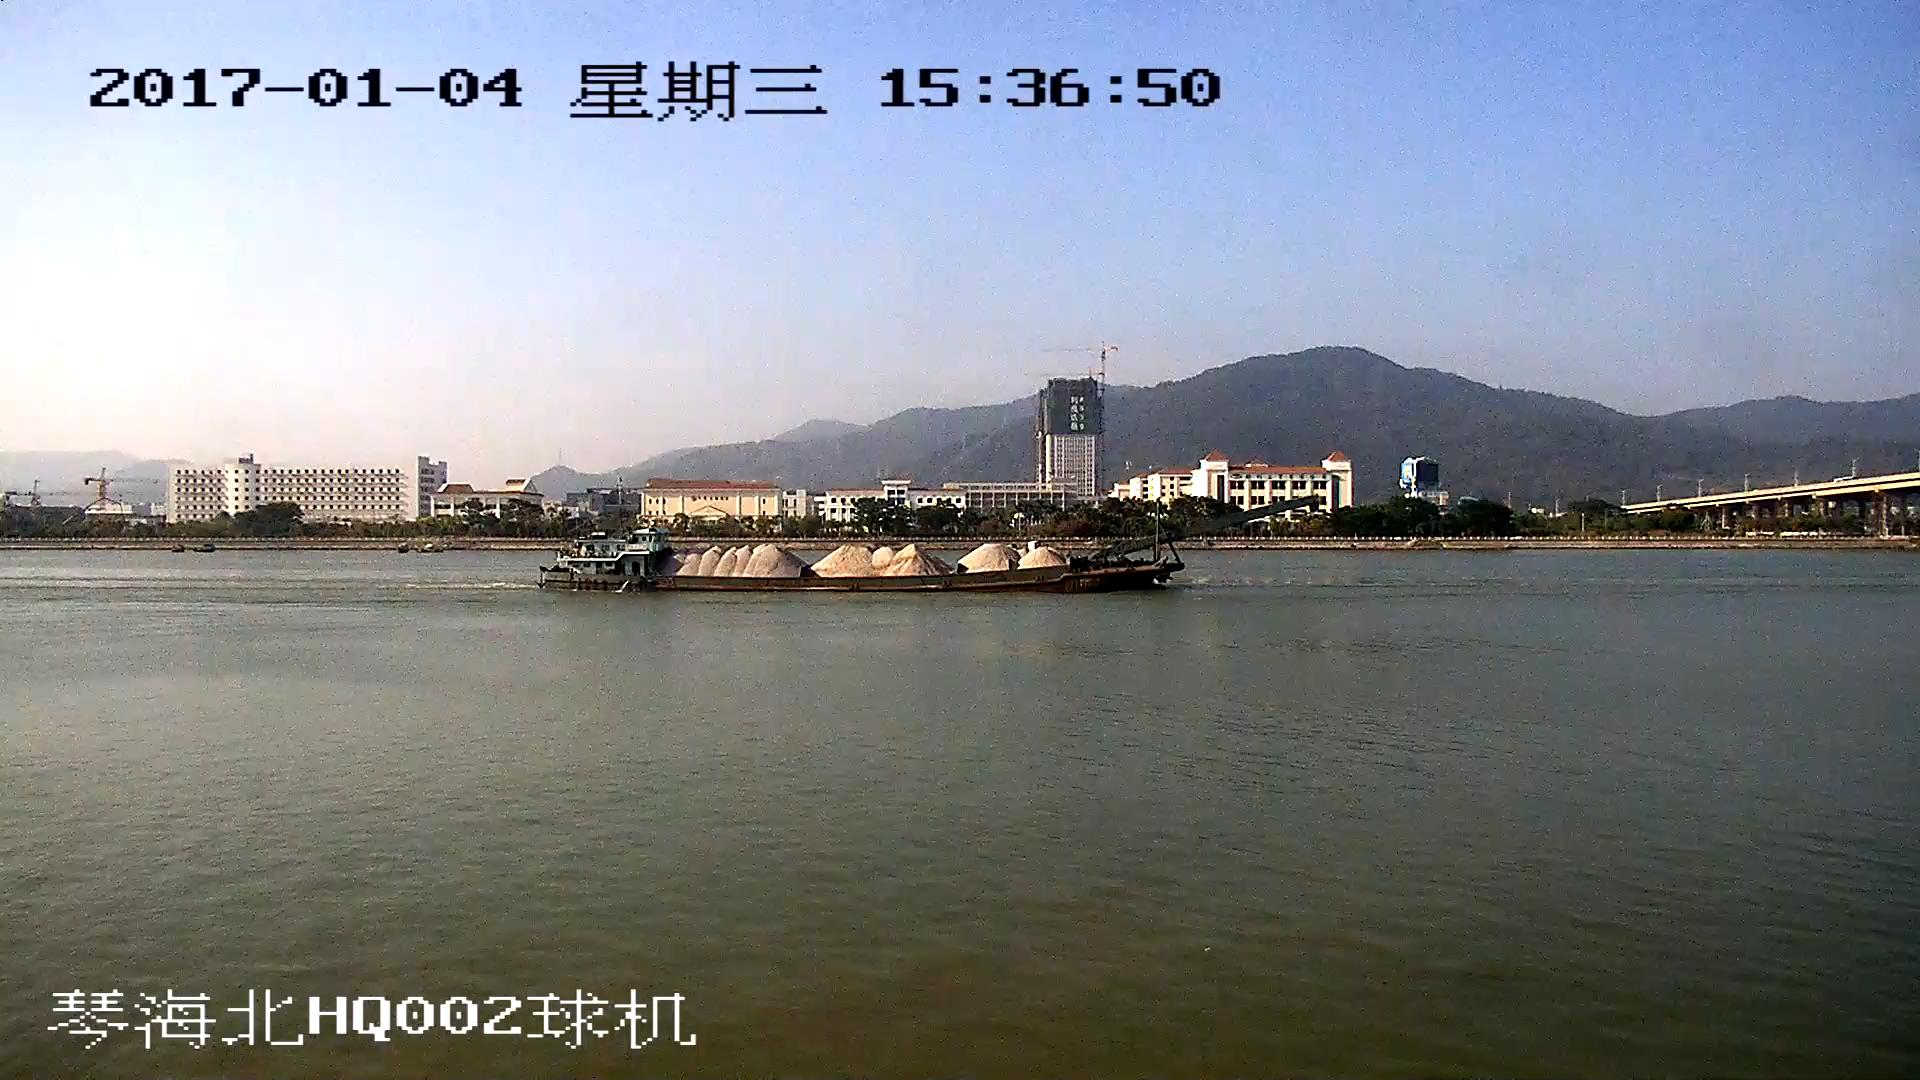ore carrier: (539, 500, 1317, 595)
